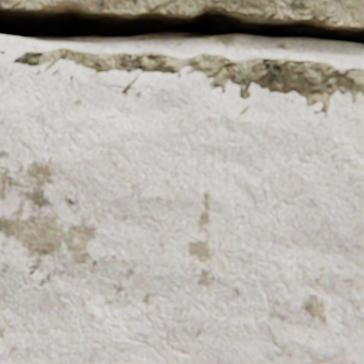brick: (0, 36, 363, 363)
crack: (0, 0, 363, 69)
